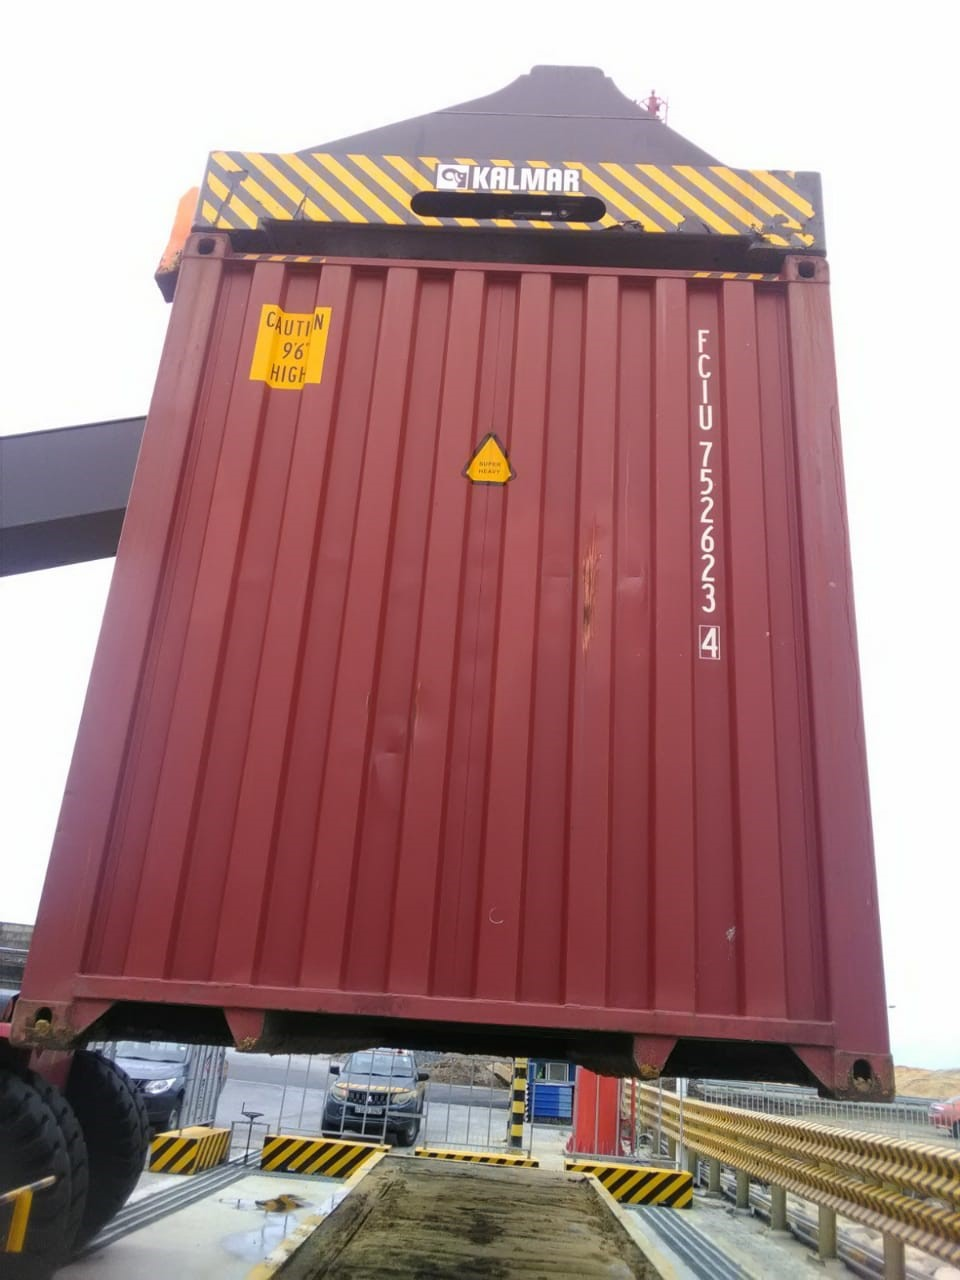moderate: (523, 541, 671, 654), (343, 730, 435, 783)
